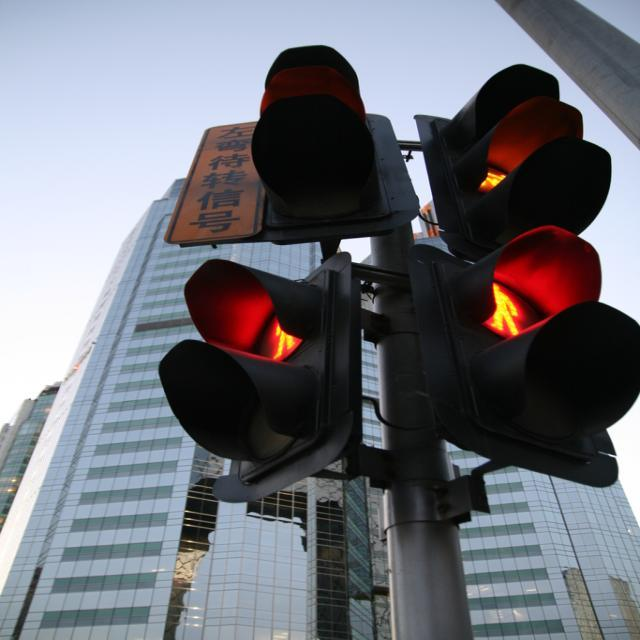traffic light: (418, 219, 615, 450), (175, 256, 358, 469), (425, 88, 595, 246)
